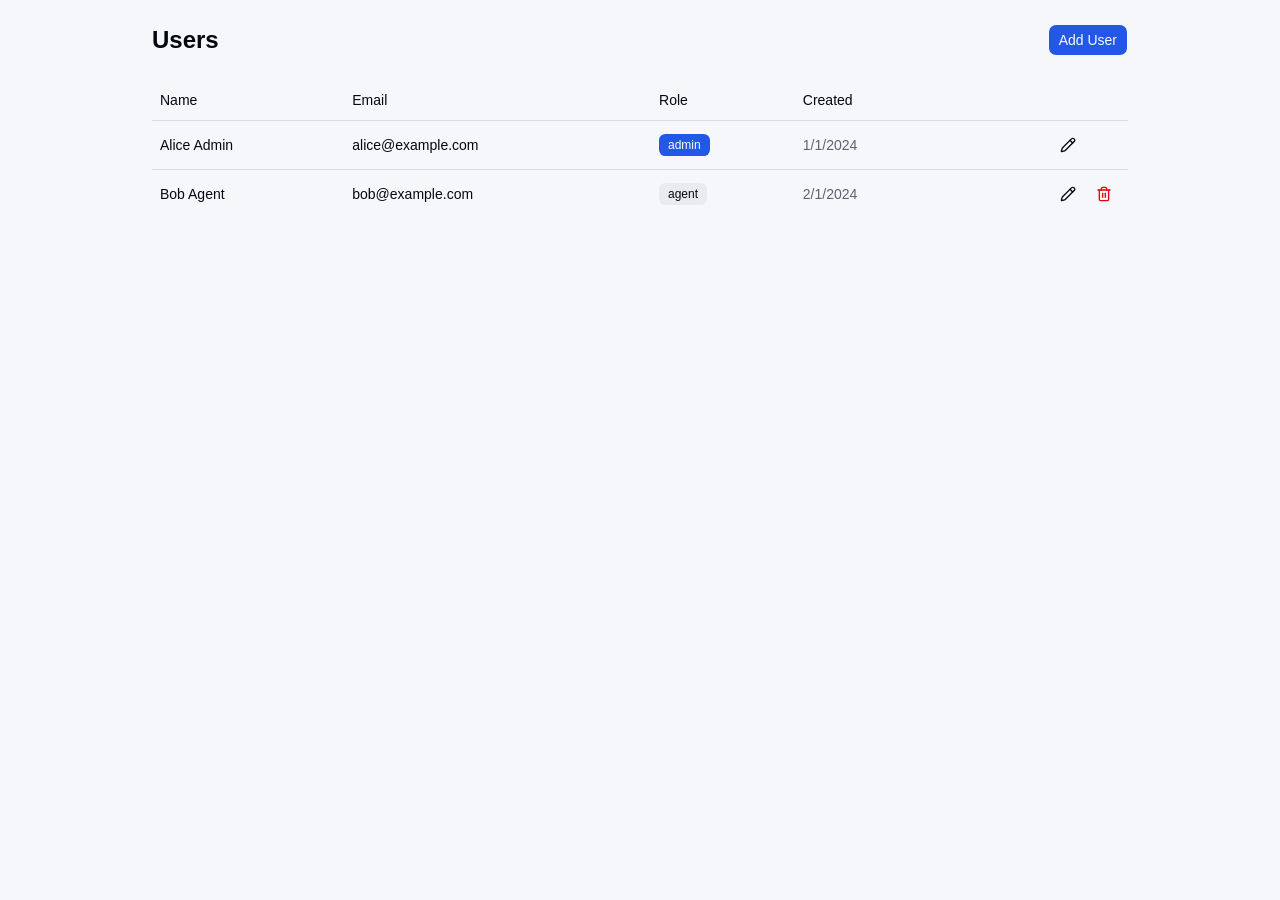
UsersPage › edit dialog › opens the Edit User dialog with the user's data pre-filled
Expected: the text "Alice Admin" is shown, [152,120,344,169]
Step 1. Click the button named "edit alice admin" → point(1068, 144), box [1052,128,1084,160]
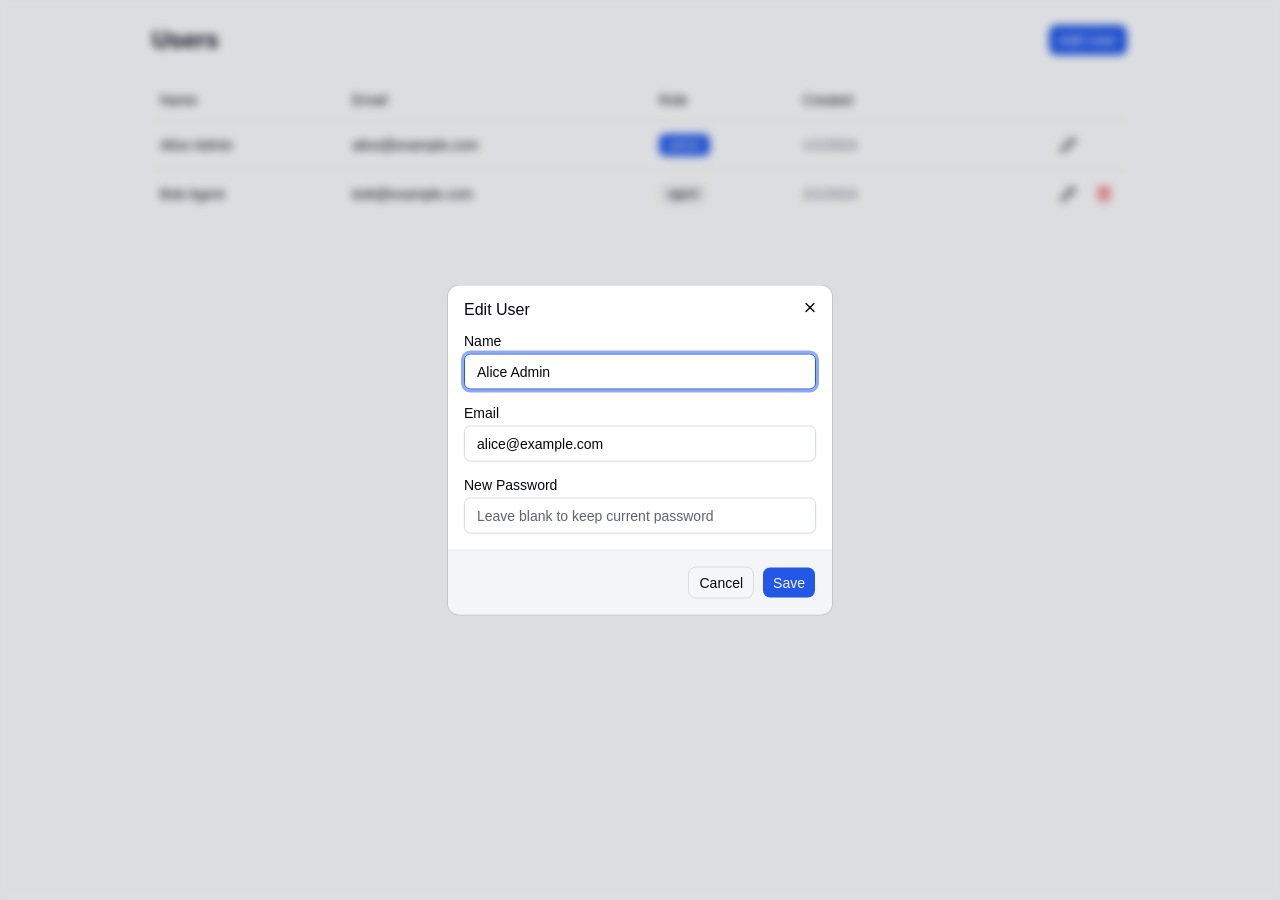
Expected: the dialog is shown, [448,286,832,614]
Expected: the field labelled "Name" holds "Alice Admin", [464,354,816,390]
Expected: the field labelled "Email" holds "alice@example.com", [464,426,816,462]
